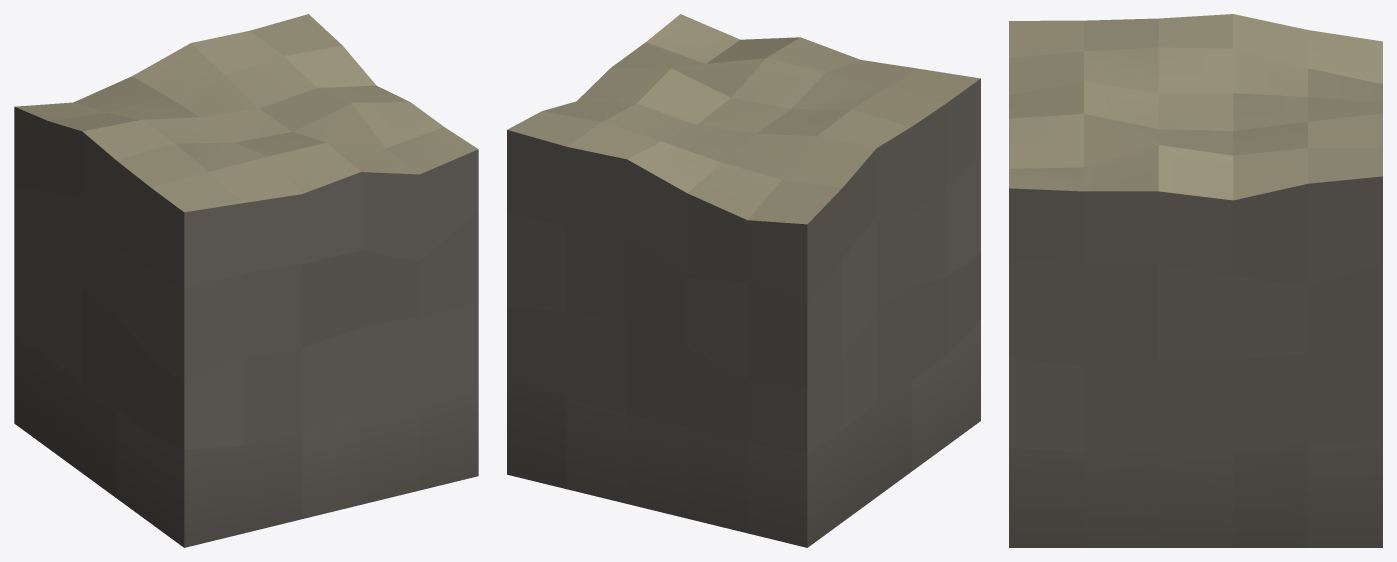
File: roca_relleno.glb
3 renders of one model, left to right at view 1: azimuth 30°, elevation 25°; view 2: azimuth 150°, elevation 25°; view 3: azimuth 270°, elevation 25°, orthographic. The views are drawn at different scales.
Parts seen in each view (by area): view 1: propforge-cuartos-roca_relleno; view 2: propforge-cuartos-roca_relleno; view 3: propforge-cuartos-roca_relleno.
Part boxes in pixels (box(x1,y1,x2,y2)): propforge-cuartos-roca_relleno: box(14, 14, 478, 547); propforge-cuartos-roca_relleno: box(507, 14, 980, 547); propforge-cuartos-roca_relleno: box(1009, 14, 1382, 547).
Bounding box in the file's own units: 1 × 1.11 × 1.
